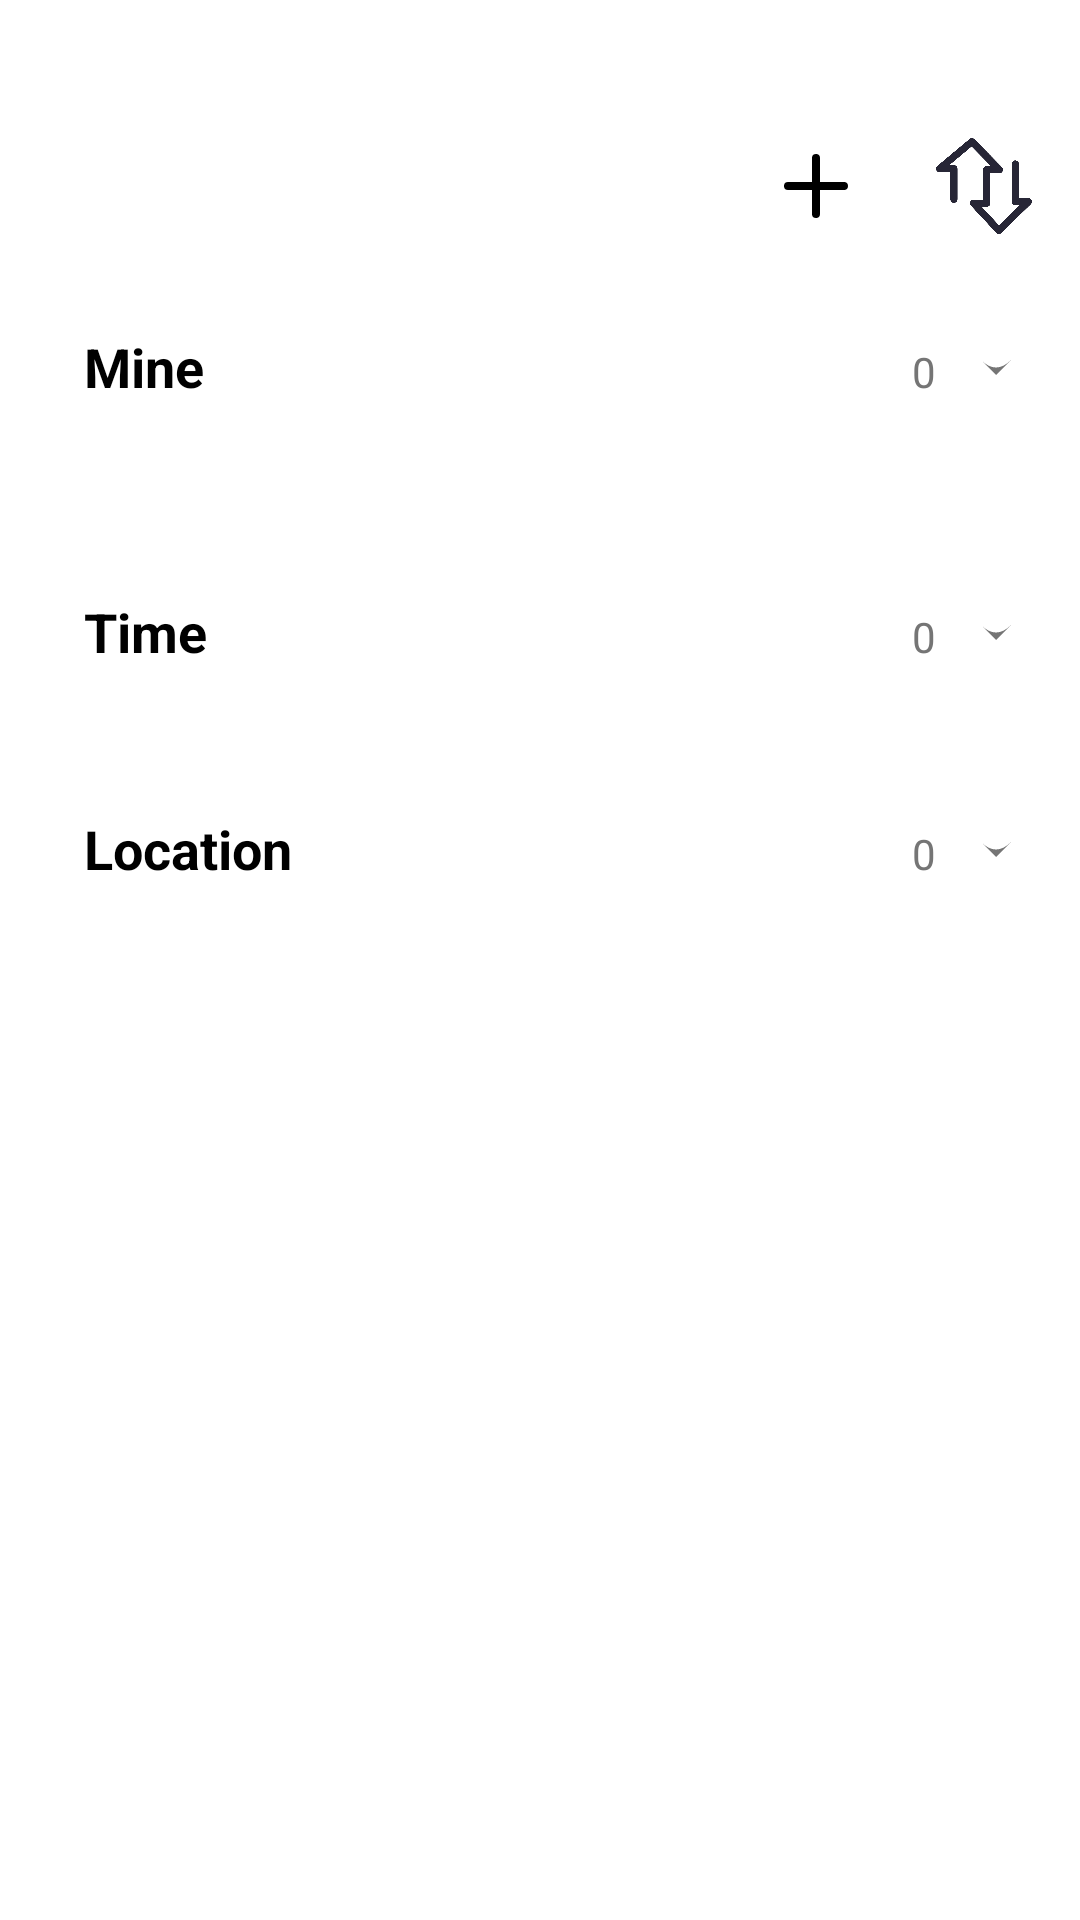

Screen size 1080px×1920px. Icon name, then its box in pixels as (x1,y1,x2,y2):
Add: (784,154,848,218)
arrow down: (983,360,1011,375), (983,625,1011,640), (983,842,1011,857)
Order: (936,138,1032,234)
